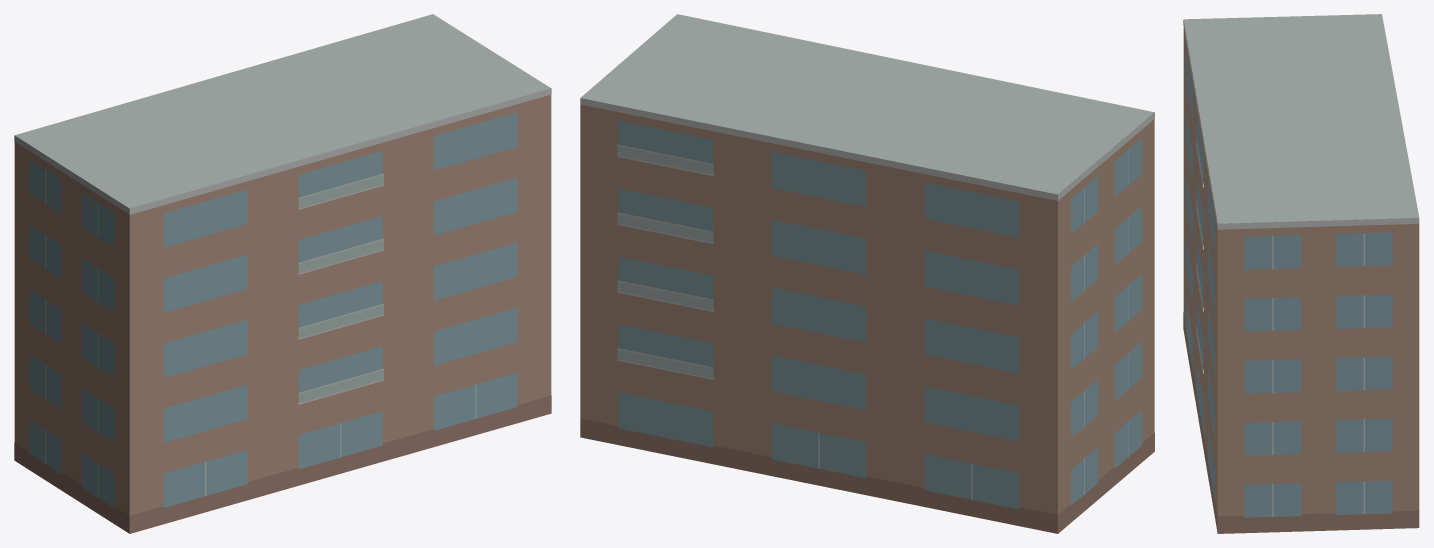
File: survey-upis-32875379.glb
3 renders of one model, left to right at view 1: azimuth 30°, elevation 25°; view 2: azimuth 150°, elevation 25°; view 3: azimuth 270°, elevation 25°, orthographic. The views are drawn at different scales.
Parts seen in each view (by area): view 1: survey-upis-32875379.tmp; view 2: survey-upis-32875379.tmp; view 3: survey-upis-32875379.tmp.
Boxes of the visible parts, bbox=[...] form: survey-upis-32875379.tmp: bbox=[14, 14, 551, 533]; survey-upis-32875379.tmp: bbox=[580, 14, 1154, 533]; survey-upis-32875379.tmp: bbox=[1183, 14, 1419, 533].
Bounding box in the file's own units: 18.58 × 12.8 × 8.83.
